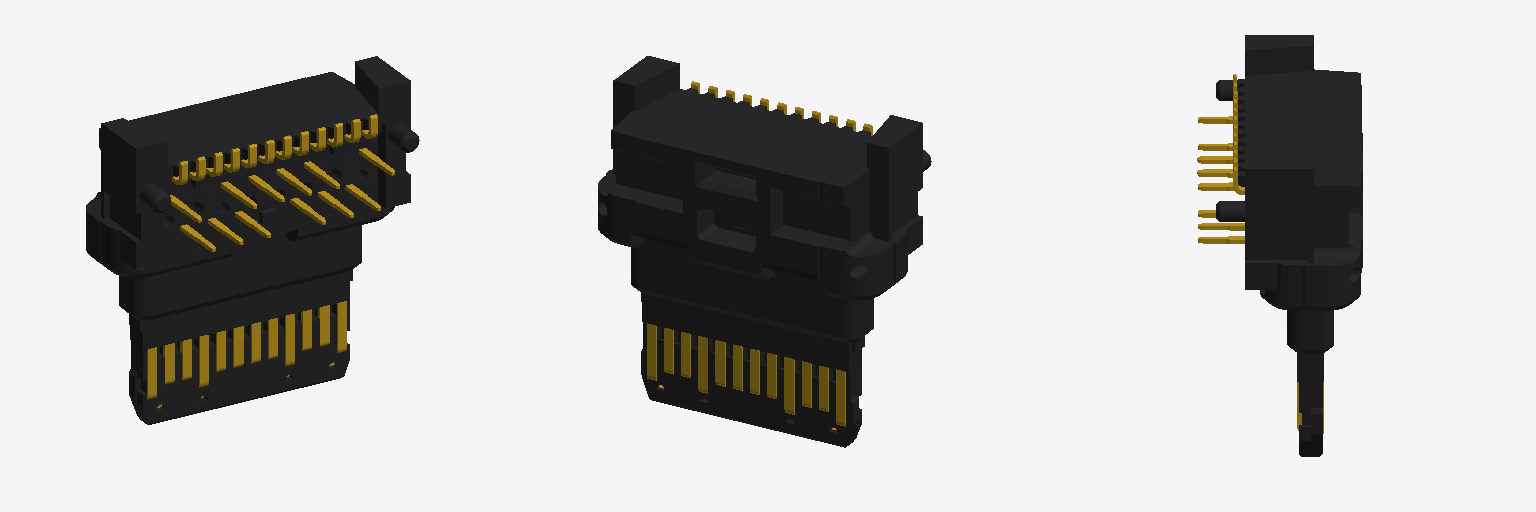
Rendered from insert_mold.obj.
The picture shows the model from 3 angles: view 1: azimuth 30°, elevation 25°; view 2: azimuth 150°, elevation 25°; view 3: azimuth 270°, elevation 25°; orthographic projection.
Visible parts, largest first — view 1: insert_mold; view 2: insert_mold; view 3: insert_mold.
Part boxes in pixels (x1,y1,x2,y2): insert_mold: (86, 56, 419, 424); insert_mold: (598, 56, 931, 447); insert_mold: (1197, 35, 1362, 456).
Bounding box in the file's own units: 0.0084 × 0.0085 × 0.0041.